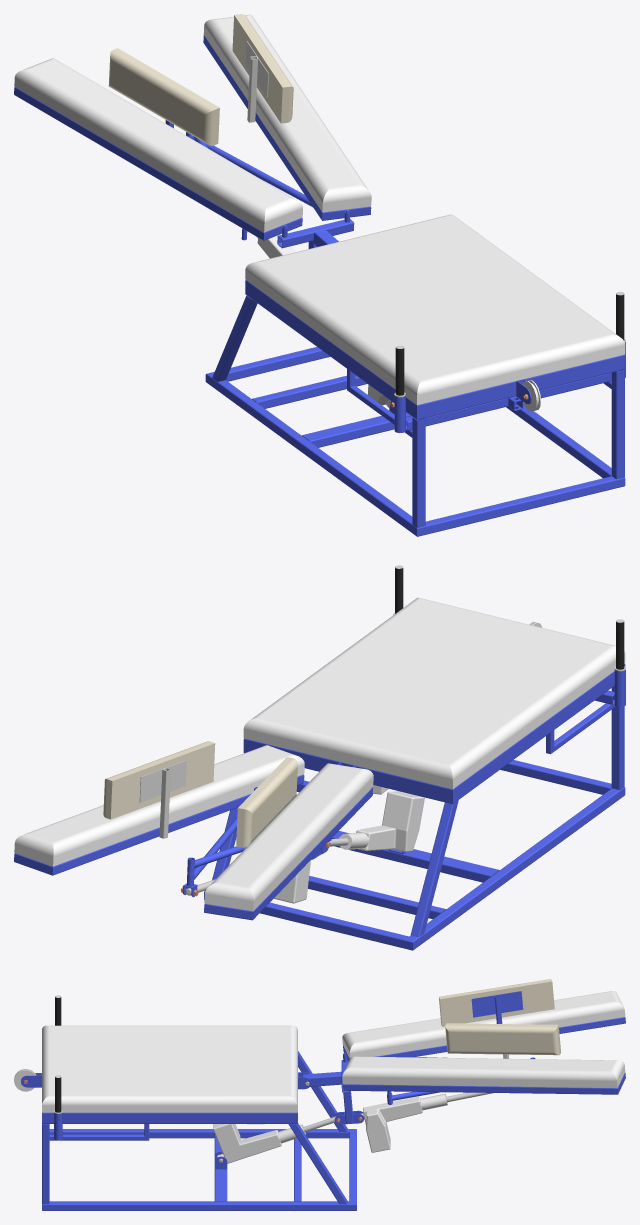
File: MAQUINA_ELONGACION.glb
3 renders of one model, top to bottom at view 1: azimuth 30°, elevation 25°; view 2: azimuth 150°, elevation 25°; view 3: azimuth 270°, elevation 25°, orthographic. The views are drawn at different scales.
Visible parts, largest first — view 1: MAQUINA_ELONGACION; view 2: MAQUINA_ELONGACION; view 3: MAQUINA_ELONGACION.
Boxes of the visible parts, x1=… form: MAQUINA_ELONGACION: x1=14, y1=14, x2=625, y2=536; MAQUINA_ELONGACION: x1=14, y1=565, x2=625, y2=950; MAQUINA_ELONGACION: x1=14, y1=979, x2=625, y2=1210.
Size of the model in its own units: 0.8006 by 0.7345 by 2.39.
9 materials, 1 textured.
